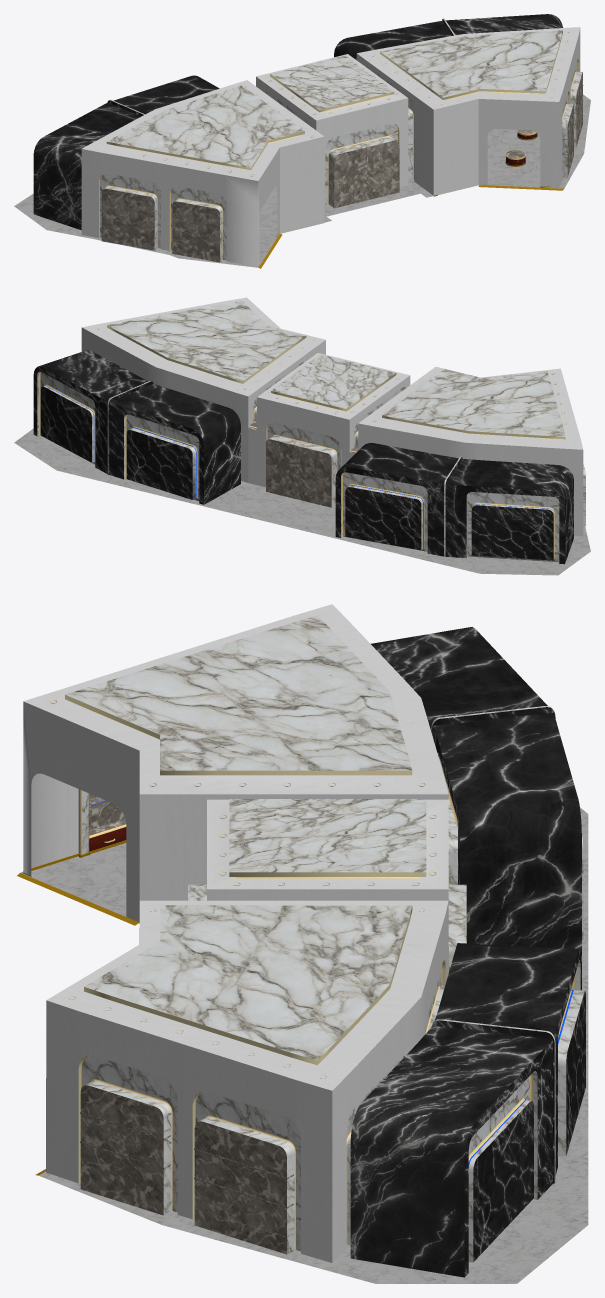
File: Market1.fbx
3 views of the same model, one above another, from view 1: azimuth 30°, elevation 25°; view 2: azimuth 150°, elevation 25°; view 3: azimuth 270°, elevation 25° (orthographic). The views are drawn at different scales.
Visible parts, largest first — view 1: LobbyWall.005, LobbyWall.001; view 2: LobbyWall.005, LobbyWall.001; view 3: LobbyWall.005, LobbyWall.001.
Part boxes in pixels (box(x1,y1,x2,y2)): LobbyWall.005: box(33, 14, 582, 266); LobbyWall.001: box(14, 94, 590, 268); LobbyWall.005: box(33, 297, 585, 564); LobbyWall.001: box(14, 428, 590, 575); LobbyWall.005: box(23, 604, 585, 1277); LobbyWall.001: box(17, 807, 588, 1283).
Size of what is drawn, in the model's own units: 3677 by 602 by 1680.
11 materials, 6 textured.
